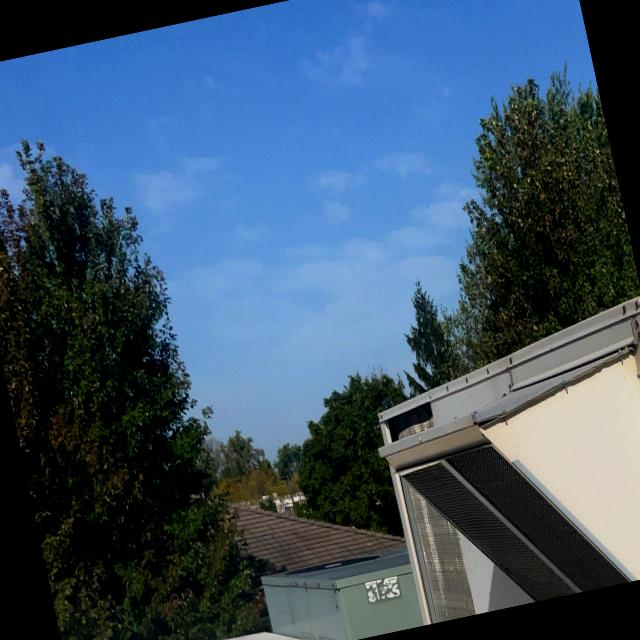RTU: (349, 279, 640, 628)
